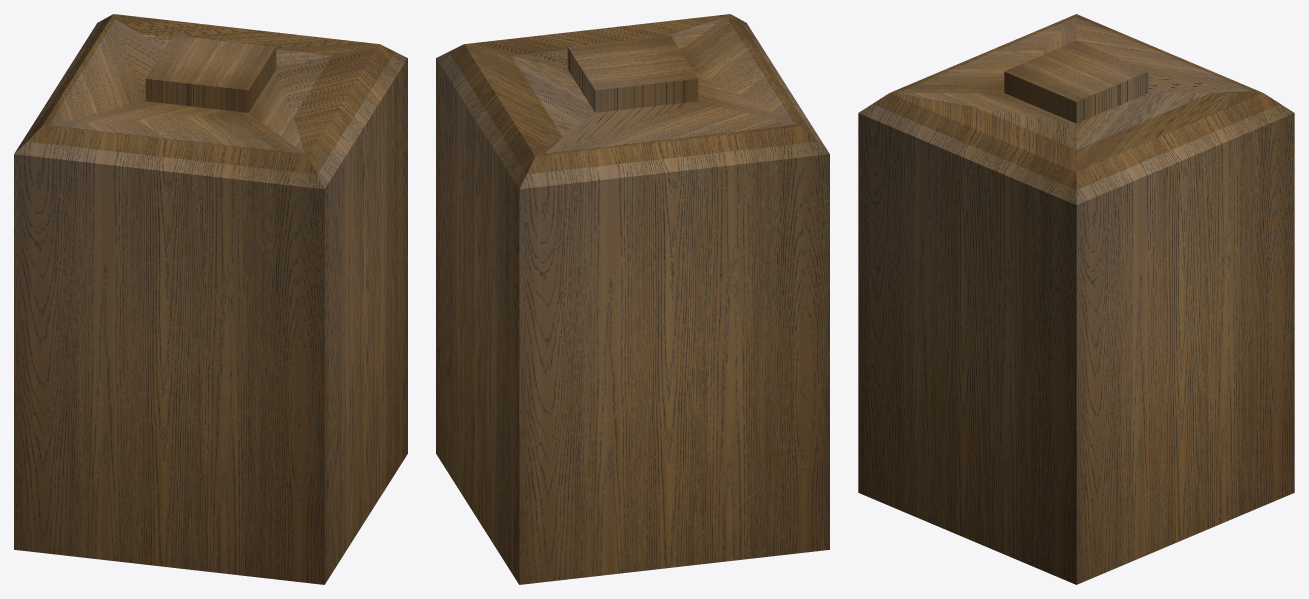
File: Obstacle_082.obj
3 renders of one model, left to right at view 1: azimuth 30°, elevation 25°; view 2: azimuth 150°, elevation 25°; view 3: azimuth 270°, elevation 25°, orthographic. The views are drawn at different scales.
Visible parts, largest first — view 1: Box148; view 2: Box148; view 3: Box148.
Part boxes in pixels (bbox=[...]): Box148: bbox=[14, 14, 407, 584]; Box148: bbox=[436, 14, 829, 584]; Box148: bbox=[858, 14, 1294, 584].
Size of the model in its own units: 38.97 by 41.5 by 38.97.
